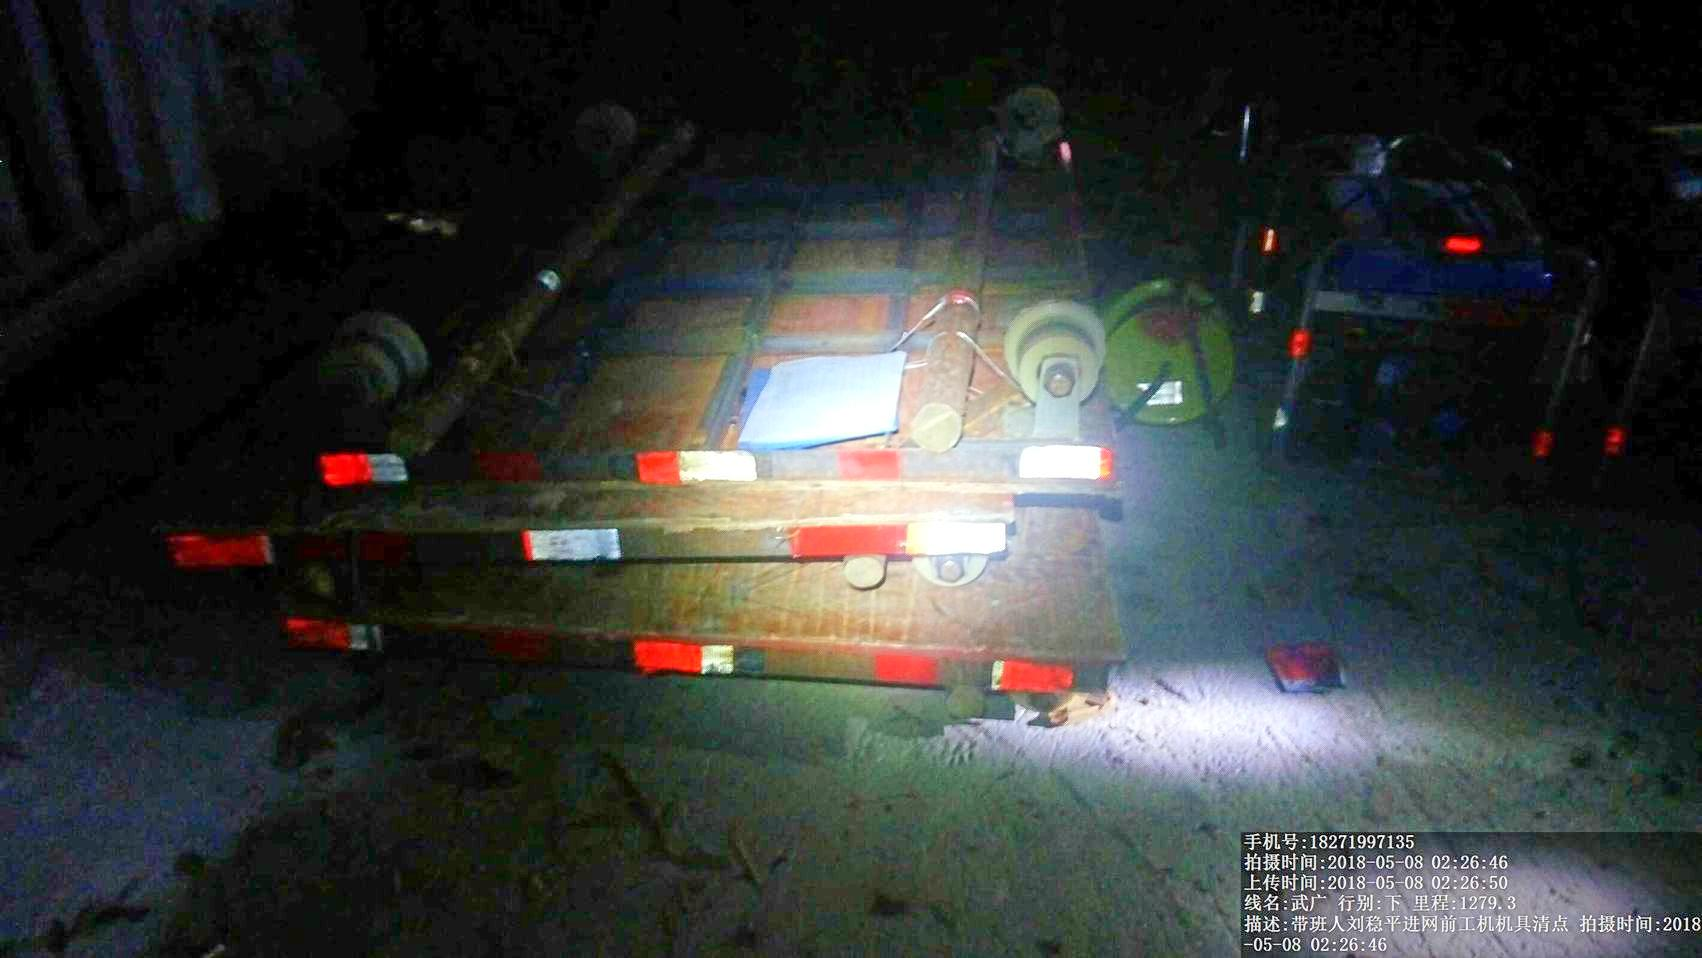DX: (1105, 268, 1251, 442)
